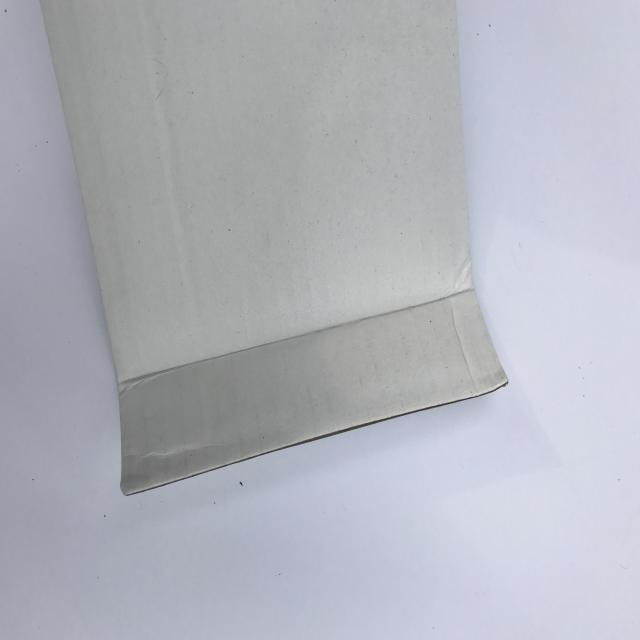cardboard: (36, 0, 508, 496)
